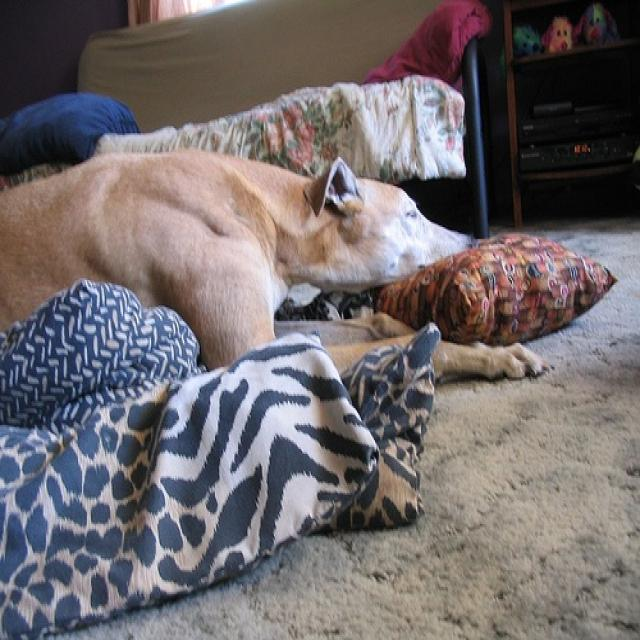dog: (0, 148, 547, 382)
